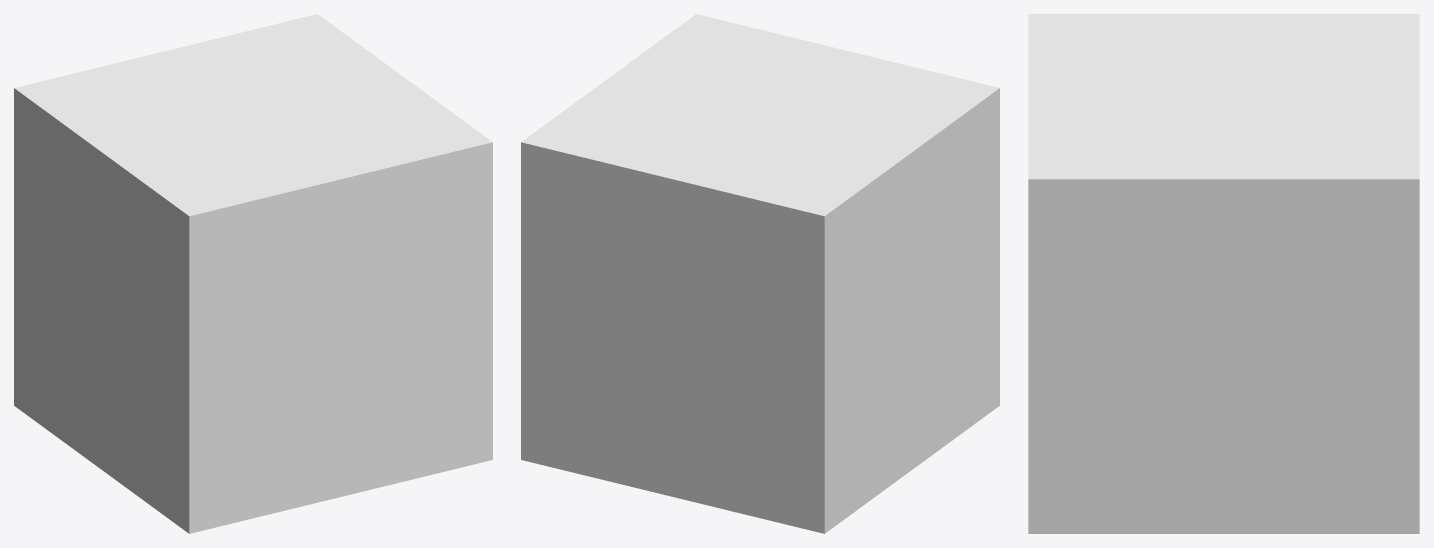
Rendered from env_2.gltf.
3 views of the same model, side by side, from view 1: azimuth 30°, elevation 25°; view 2: azimuth 150°, elevation 25°; view 3: azimuth 270°, elevation 25° (orthographic). The views are drawn at different scales.
Parts seen in each view (by area): view 1: Cube; view 2: Cube; view 3: Cube.
Part boxes in pixels (x1,y1,x2,y2): Cube: (14,14,492,533); Cube: (521,14,999,533); Cube: (1028,14,1419,533).
Size of the model in its own units: 398 by 398 by 398.
Materials: 2 (2 with a texture image).
